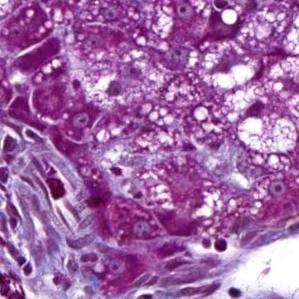ballooning: (234, 96, 298, 156)
